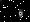person: (19, 10, 24, 19)
